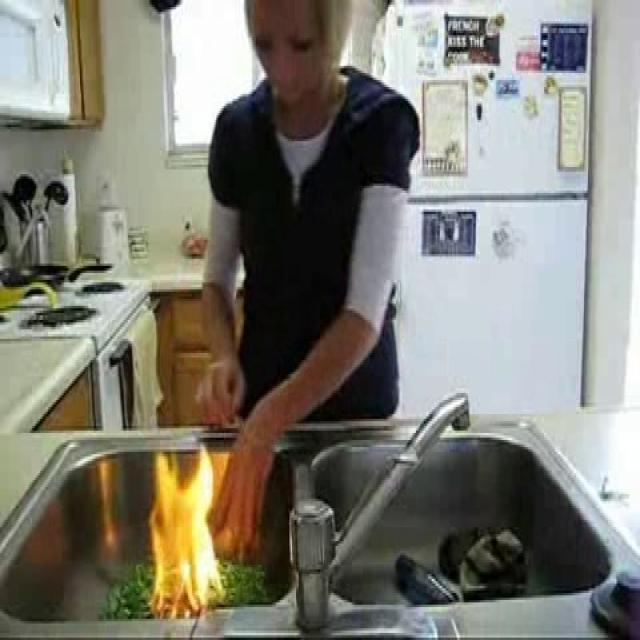Fire: (143, 450, 224, 612)
